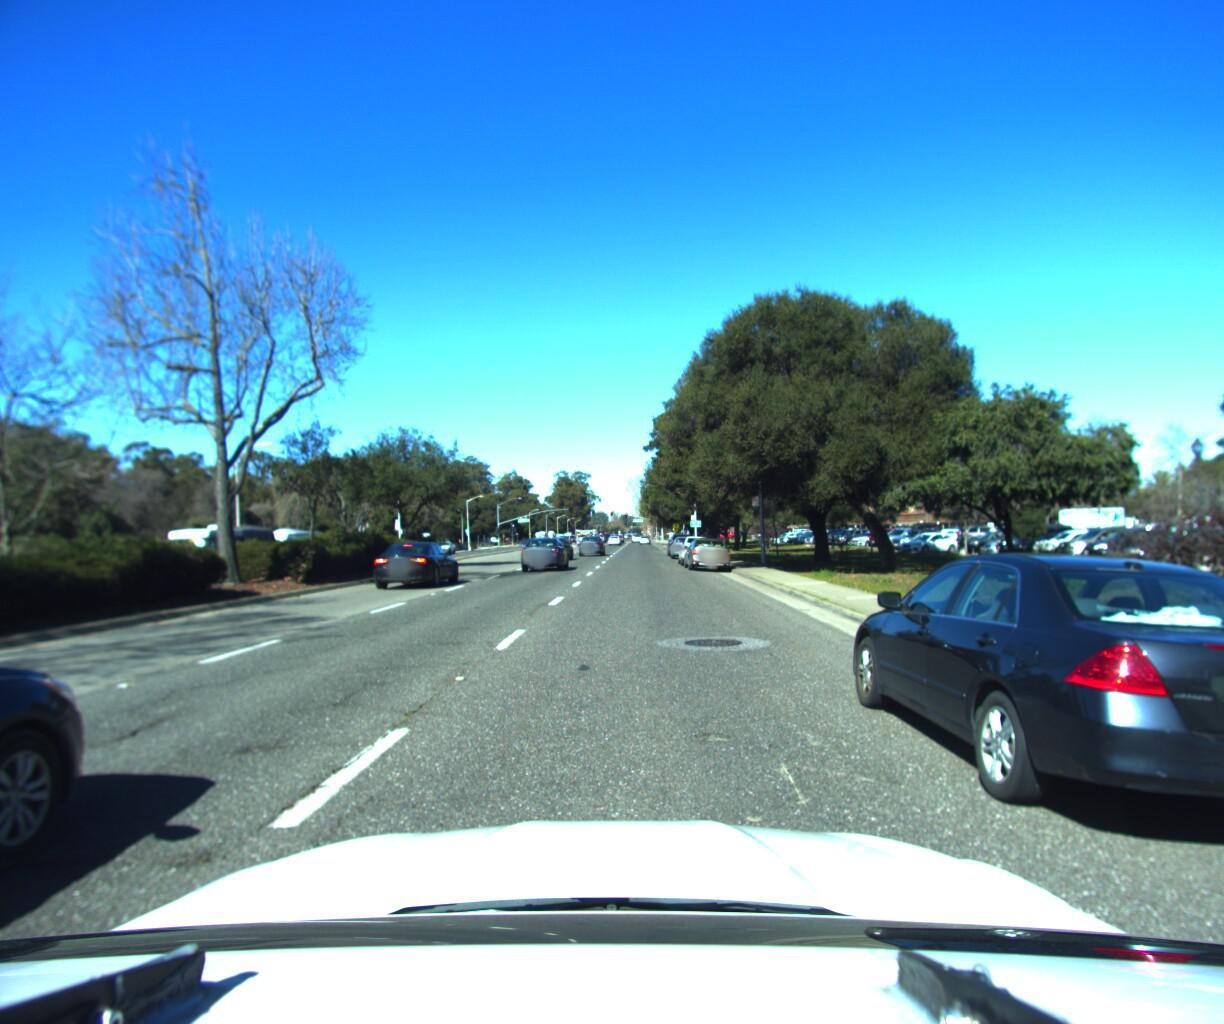car: (825, 539, 1224, 898), (0, 562, 116, 1024), (368, 536, 463, 589), (678, 535, 733, 573), (516, 534, 568, 570), (673, 534, 715, 567), (667, 533, 699, 559), (575, 533, 605, 555)
other_vehicle: (157, 523, 277, 585), (240, 528, 327, 577)
